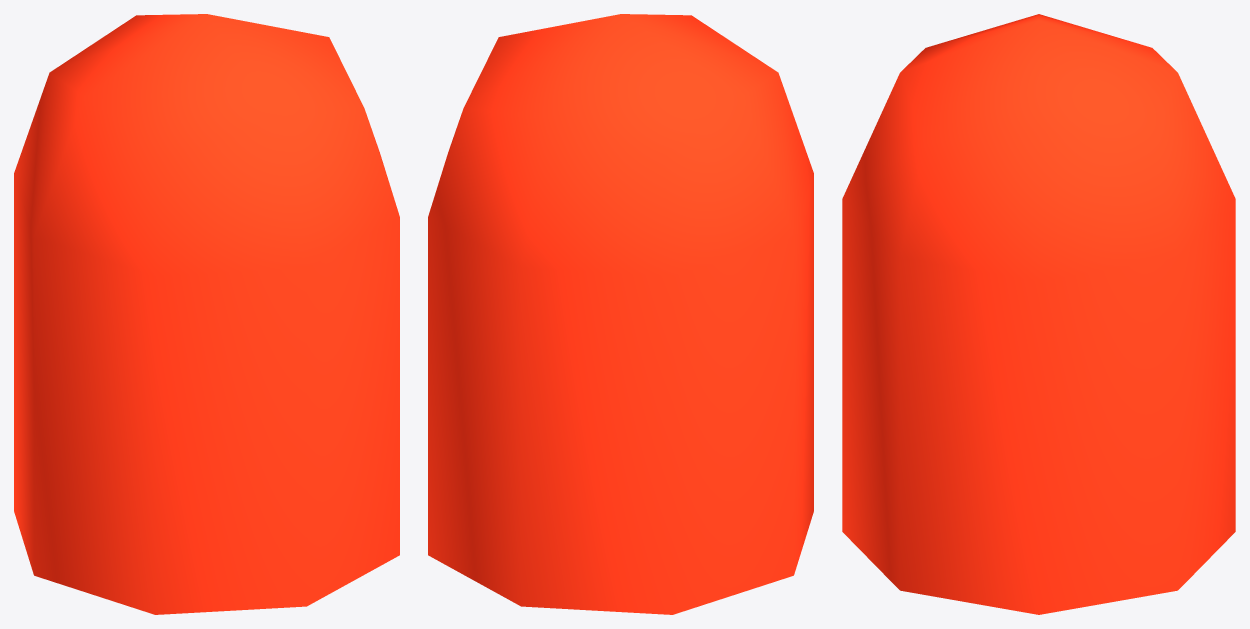
File: signalnaia_lampa.fbx
3 views of the same model, side by side, from view 1: azimuth 30°, elevation 25°; view 2: azimuth 150°, elevation 25°; view 3: azimuth 270°, elevation 25° (orthographic).
Visible parts, largest first — view 1: wSphere.003; view 2: wSphere.003; view 3: wSphere.003.
Part boxes in pixels (x1,y1,x2,y2): wSphere.003: (14, 14, 399, 614); wSphere.003: (428, 14, 813, 614); wSphere.003: (842, 14, 1235, 614).
Size of the model in its own units: 94.47 by 136 by 94.47.
